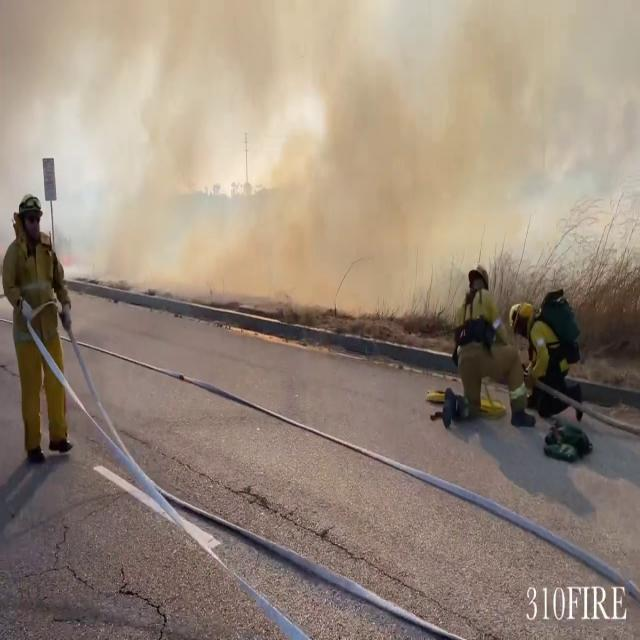Smoke: (64, 0, 634, 310)
